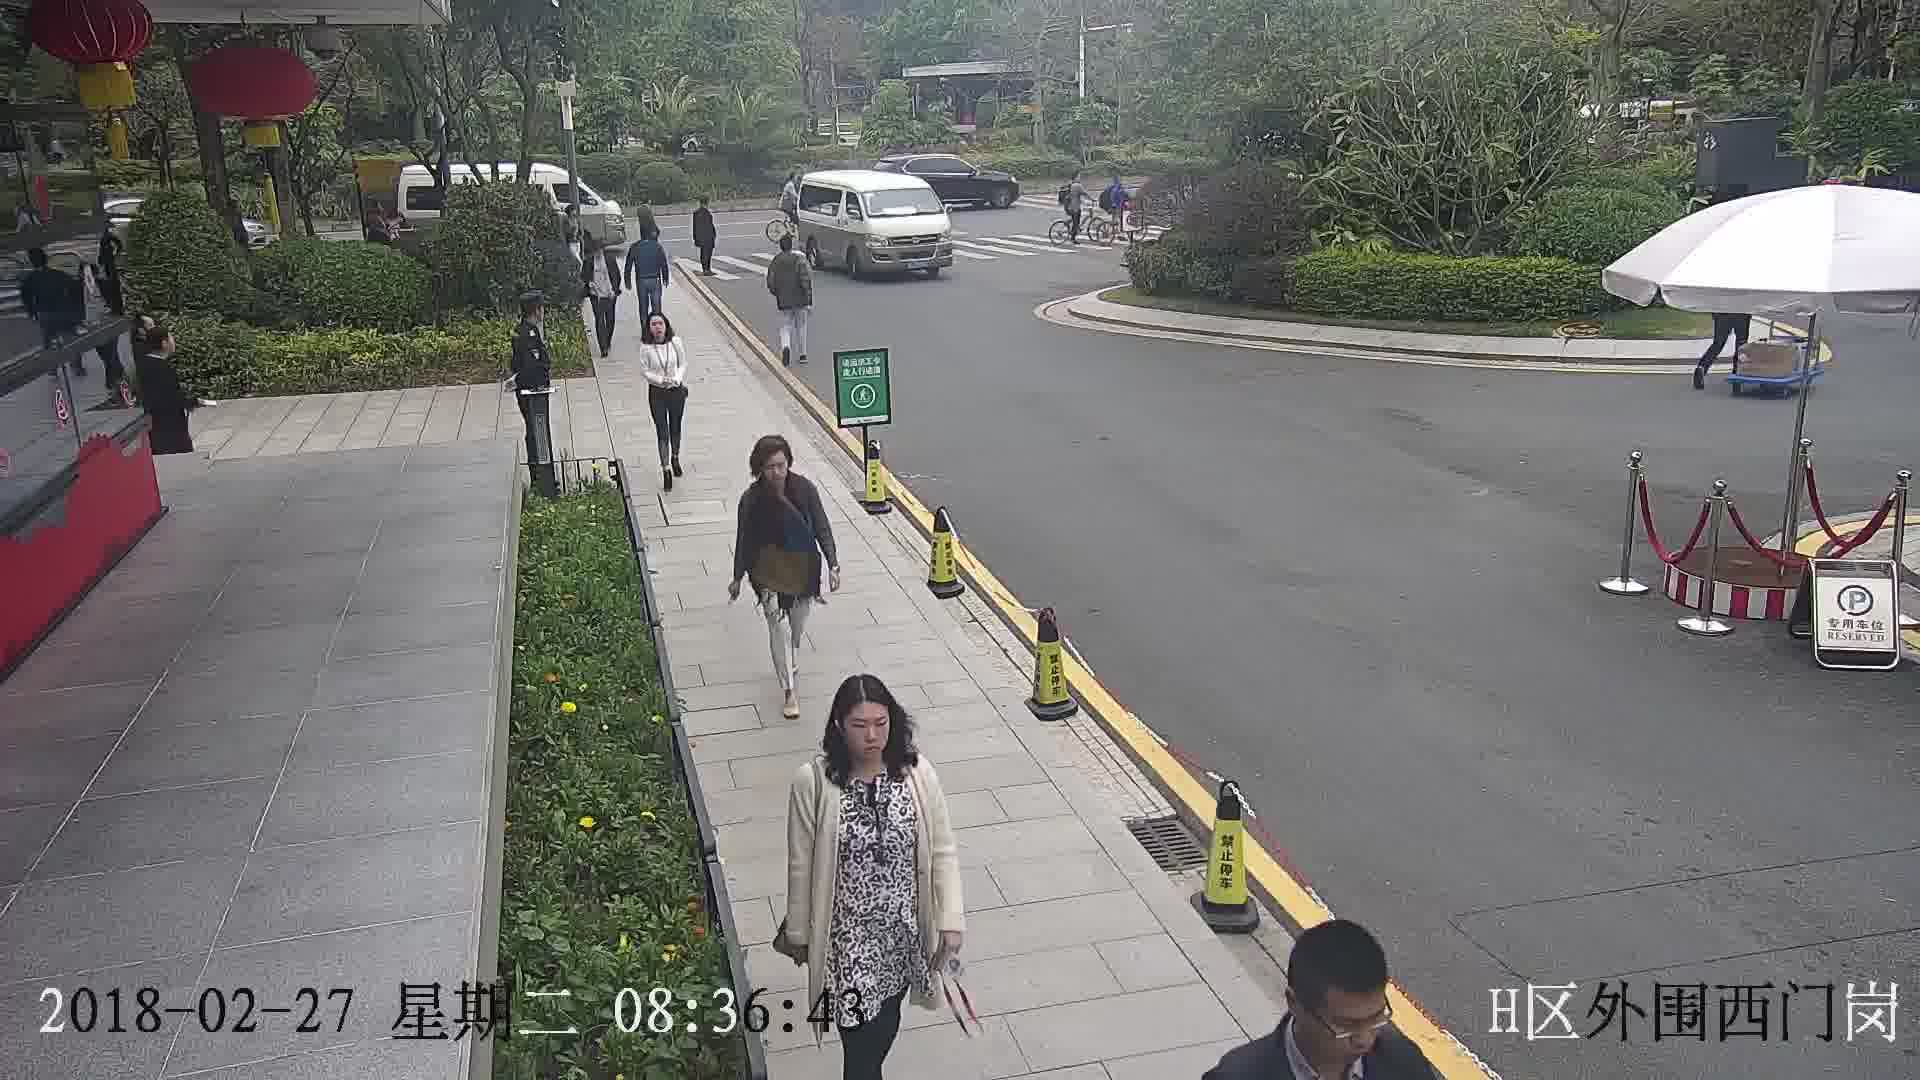face: (1301, 984, 1379, 1062), (835, 700, 892, 764), (755, 448, 793, 489)
person: (1206, 915, 1421, 1077), (790, 672, 937, 808), (736, 434, 818, 512), (136, 322, 182, 374), (510, 292, 550, 342), (640, 312, 686, 354), (769, 234, 806, 267), (632, 223, 665, 253), (588, 237, 616, 268), (781, 168, 802, 195), (693, 196, 715, 220), (1104, 173, 1129, 192), (1066, 167, 1083, 195), (639, 191, 653, 221)
